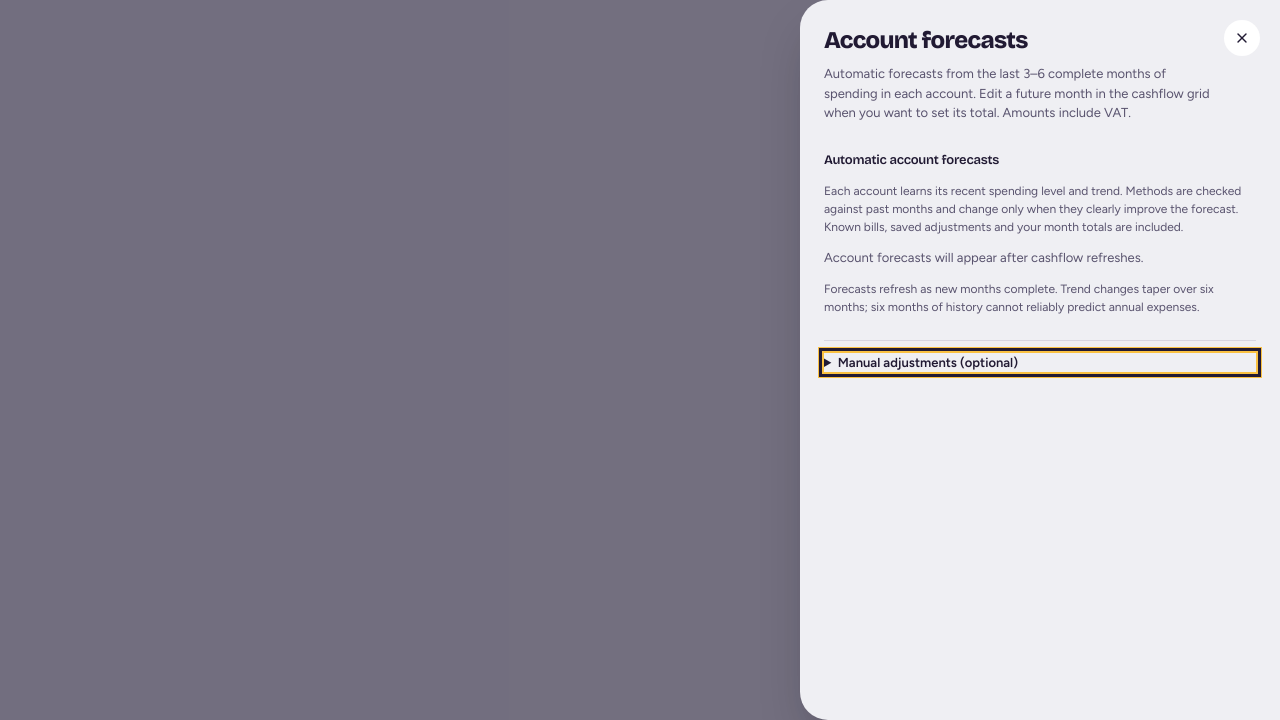
Test case: does not offer accounts managed by the VAT forecast for additional schedules
Click the heading "Manual adjustments (optional)": (928, 362) [824,352,1256,372]
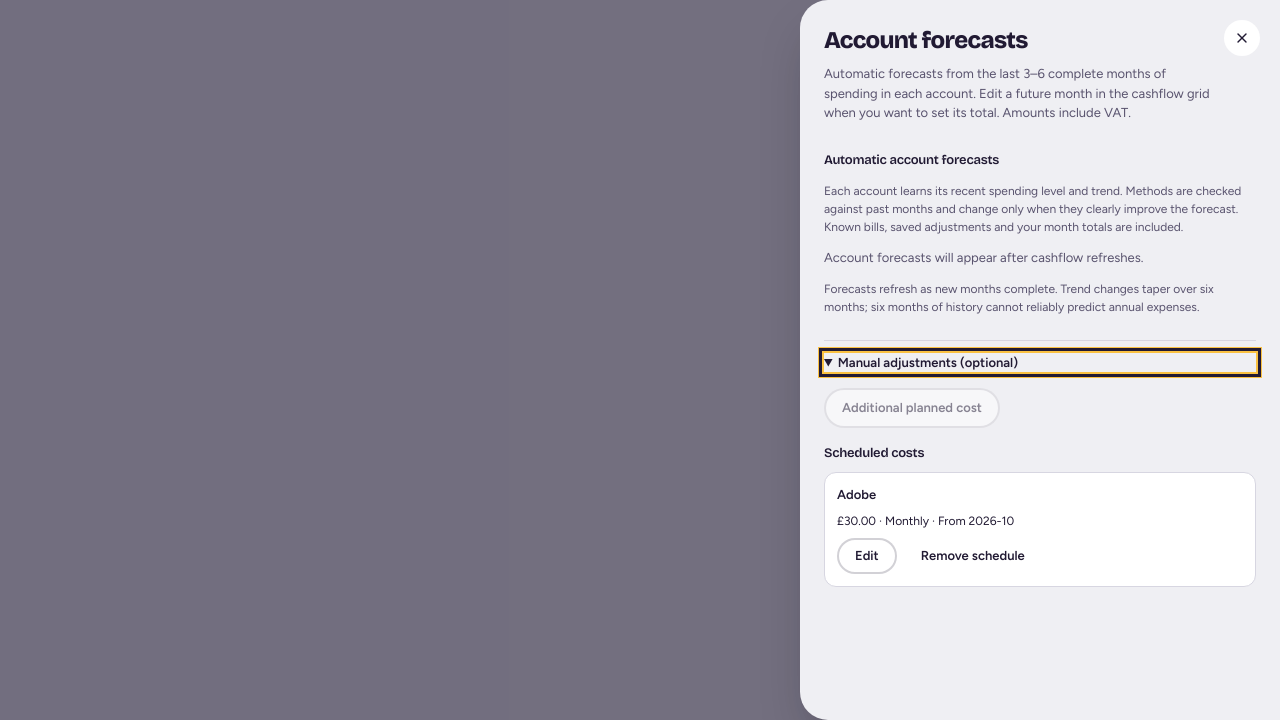
Expected: the button "Additional planned cost" is disabled, [824,388,1000,428]
